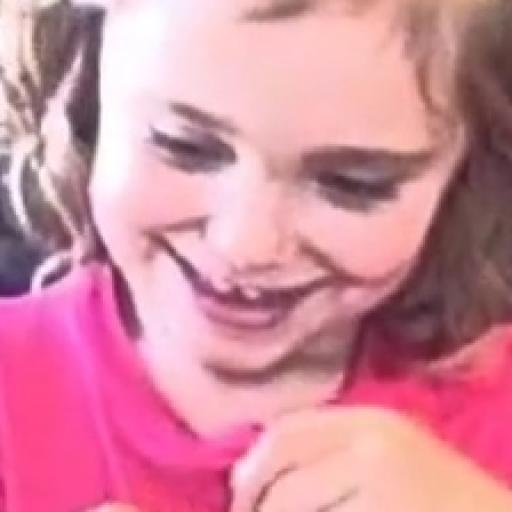Autism: (9, 2, 505, 465)
